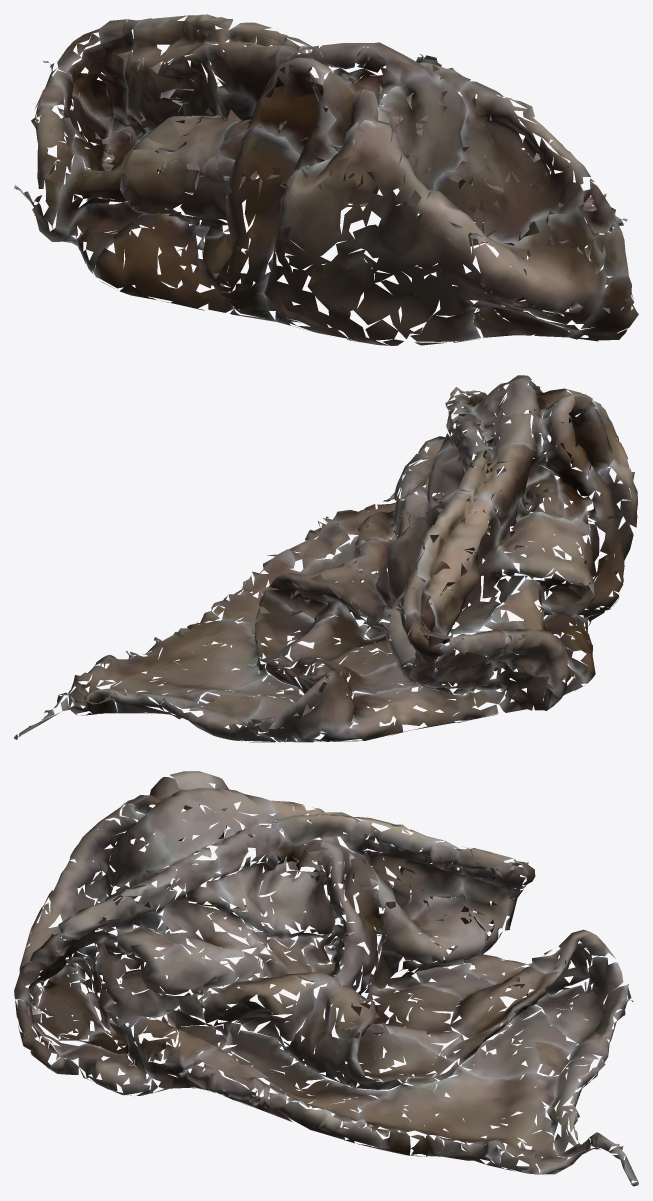
File: dirty_rag.glb
3 renders of one model, top to bottom at view 1: azimuth 30°, elevation 25°; view 2: azimuth 150°, elevation 25°; view 3: azimuth 270°, elevation 25°, orthographic. The views are drawn at different scales.
Parts seen in each view (by area): view 1: Object_5, Object_4, Object_6; view 2: Object_4, Object_5, Object_6; view 3: Object_5, Object_4, Object_6.
Boxes of the visible parts, box(x1,y1,x2,y2) form: Object_5: box(31, 18, 634, 345); Object_4: box(35, 14, 638, 345); Object_6: box(14, 29, 636, 342); Object_4: box(53, 392, 631, 742); Object_5: box(18, 375, 637, 742); Object_6: box(14, 387, 633, 742); Object_5: box(15, 777, 637, 1183); Object_4: box(14, 771, 623, 1170); Object_6: box(16, 783, 638, 1186).
Size of the model in its own units: 1.39 by 0.7797 by 1.71.
Materials: 1 (1 with a texture image).
